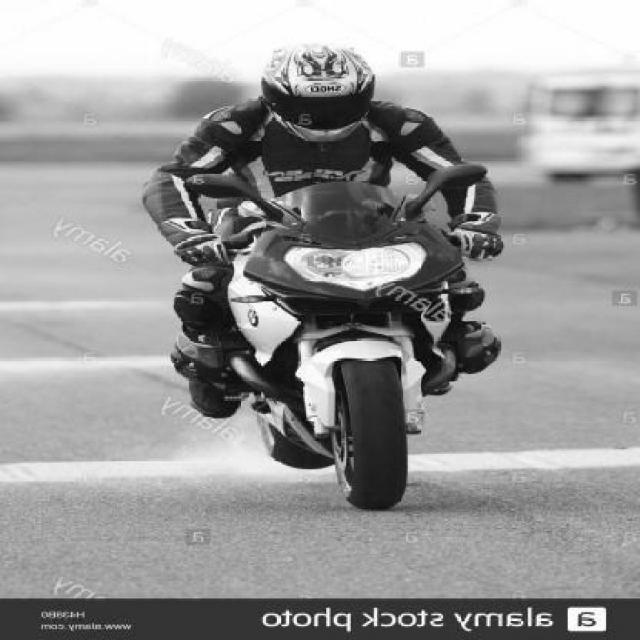Motorbike: (141, 44, 504, 514)
